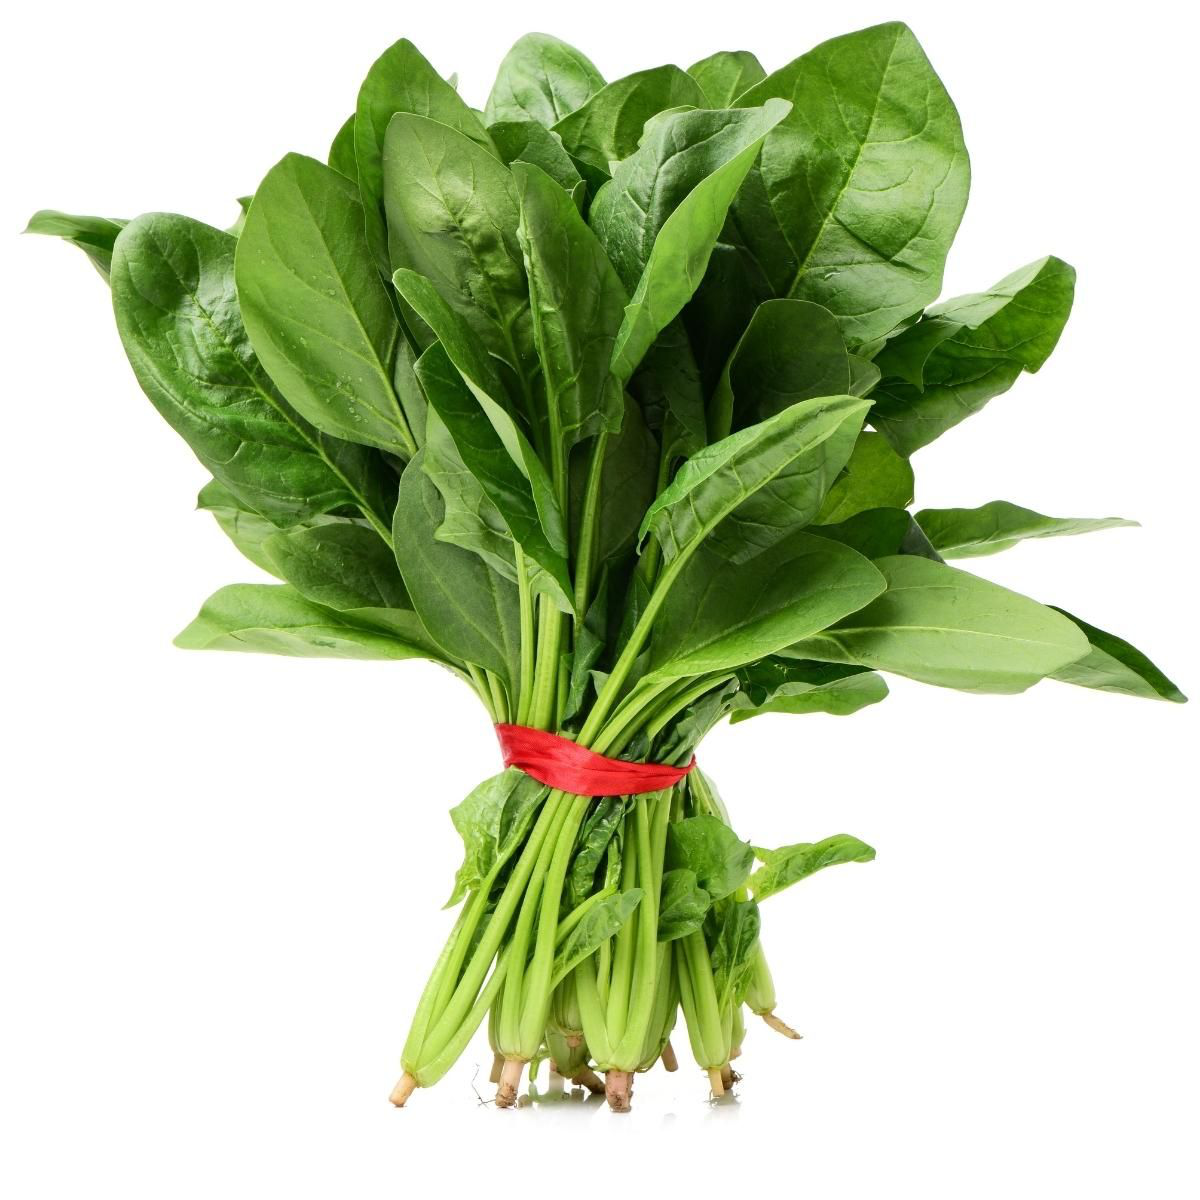Bayam: (27, 1, 1196, 1149)
